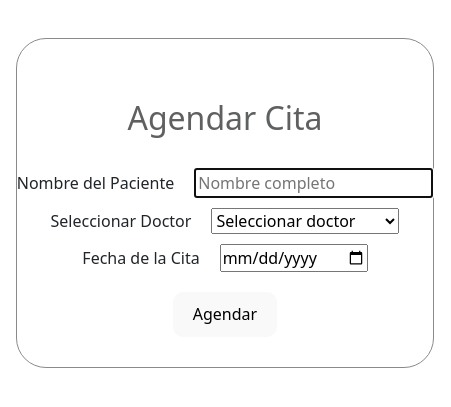
Test: AppointmentForm › Debería mostrar un mensaje de éxito cuando la cita se crea correctamente
Type "Juan Pérez" into the field labelled "Nombre del Paciente" at (314, 183), box [194,168,433,198]
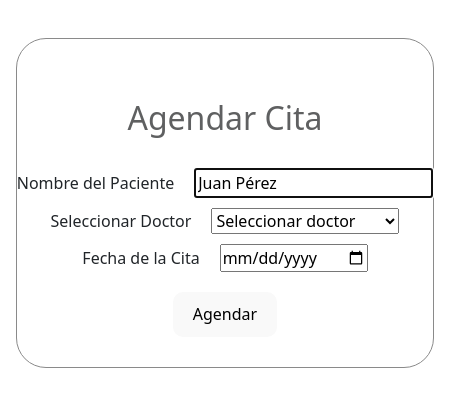
Select "Dr. Pérez (Cardiología)" in the dropdown labelled "Seleccionar Doctor" at (305, 221), box [211,208,399,234]
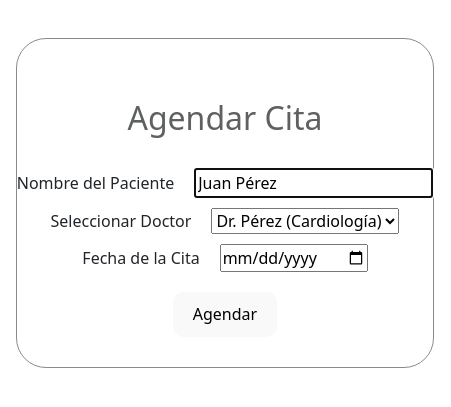
Type "2025-04-05" into the date field labelled "Fecha de la Cita" at (294, 258), box [220,244,368,272]
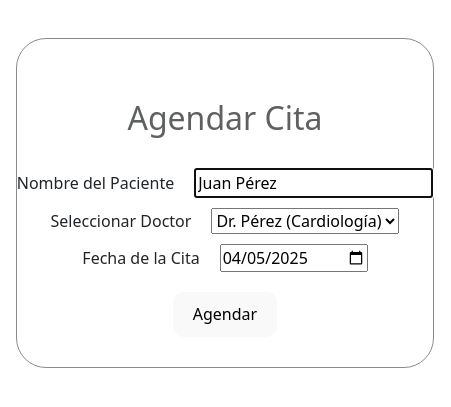
Click the button "Agendar" at (225, 314), box [173,292,277,337]
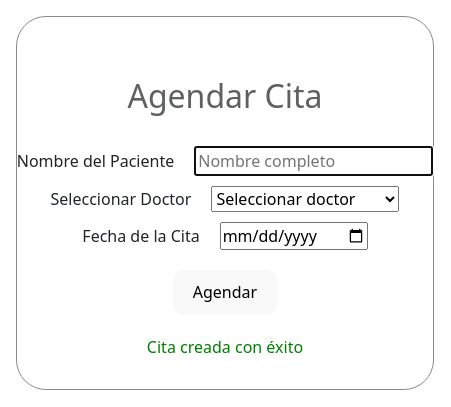
Now the text "Cita creada con éxito" is shown, box [147,336,303,358]
